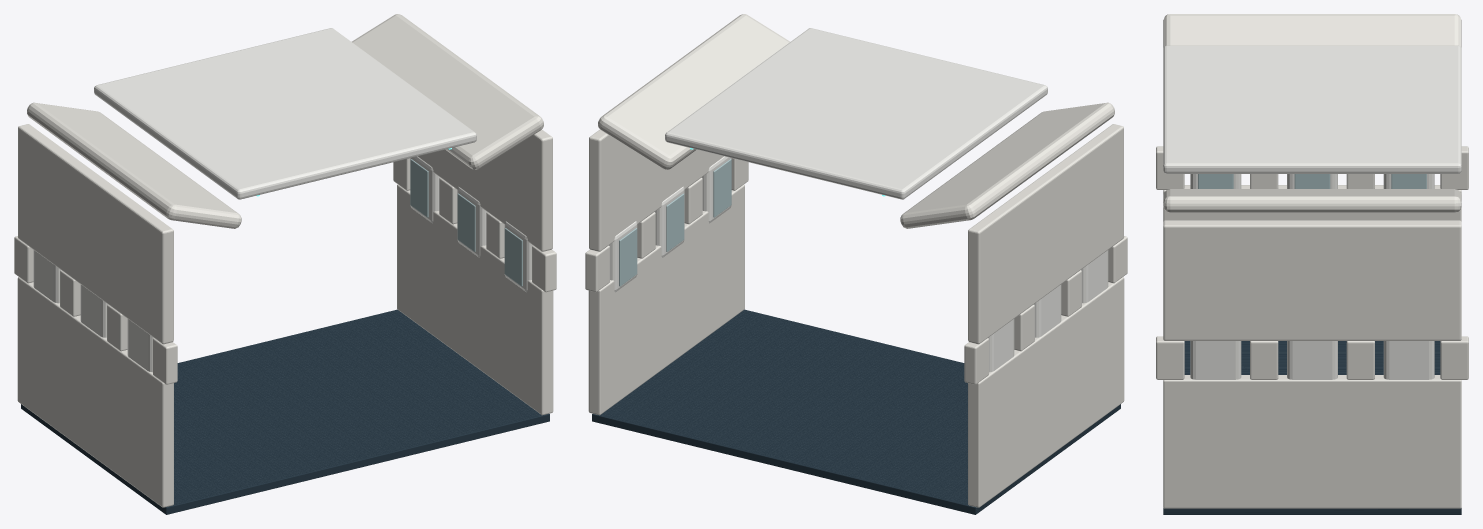
Rendered from aircraft-cabin-section.glb.
The picture shows the model from 3 angles, left to right: view 1: azimuth 30°, elevation 25°; view 2: azimuth 150°, elevation 25°; view 3: azimuth 270°, elevation 25°; orthographic projection. The views are drawn at different scales.
Visible parts, largest first — view 1: CabinFloor, Ceiling, SidewallLower-1, SidewallUpper-1, SidewallLower1, CeilingShoulder1, CeilingShoulder-1, SidewallUpper1, WindowFrame-1-0.68, WindowFrame-10, WindowPier11.0, WindowPier-11.0 (+12 smaller); view 2: CabinFloor, Ceiling, SidewallLower-1, SidewallUpper-1, SidewallLower1, CeilingShoulder1, CeilingShoulder-1, SidewallUpper1, WindowFrame-10, WindowFrame-10.68, WindowPier1-1.0, WindowPier-1-1.0 (+12 smaller); view 3: SidewallLower1, Ceiling, SidewallUpper1, CeilingShoulder-1, CeilingShoulder1, CabinFloor, SidewallLower-1, WindowFrame1-0.68, WindowFrame10.68, WindowFrame10, WindowPier1-1.0, WindowPier11.0 (+9 smaller).
Boxes of the visible parts, <box> form: CabinFloor: <box>21,309,549,514</box>; Ceiling: <box>94,28,476,199</box>; SidewallLower-1: <box>17,277,173,507</box>; SidewallUpper-1: <box>18,124,173,344</box>; SidewallLower1: <box>397,184,553,415</box>; CeilingShoulder1: <box>351,14,543,169</box>; CeilingShoulder-1: <box>27,102,241,228</box>; SidewallUpper1: <box>418,129,552,251</box>; WindowFrame-1-0.68: <box>33,250,60,303</box>; WindowFrame-10: <box>80,284,107,337</box>; WindowPier11.0: <box>532,245,556,292</box>; WindowPier-11.0: <box>153,338,177,384</box>; CabinFloor: <box>592,309,1120,514</box>; Ceiling: <box>665,28,1047,199</box>; SidewallLower-1: <box>968,277,1124,507</box>; SidewallUpper-1: <box>968,124,1123,344</box>; SidewallLower1: <box>588,184,744,415</box>; CeilingShoulder1: <box>598,14,790,169</box>; CeilingShoulder-1: <box>900,102,1114,228</box>; SidewallUpper1: <box>589,129,723,251</box>; WindowFrame-10: <box>1034,284,1061,337</box>; WindowFrame-10.68: <box>1081,250,1108,303</box>; WindowPier1-1.0: <box>585,245,609,292</box>; WindowPier-1-1.0: <box>964,338,988,384</box>; SidewallLower1: <box>1163,375,1461,508</box>; Ceiling: <box>1163,45,1461,173</box>; SidewallUpper1: <box>1163,220,1461,340</box>; CeilingShoulder-1: <box>1163,14,1461,47</box>; CeilingShoulder1: <box>1163,189,1461,212</box>; CabinFloor: <box>1163,341,1461,514</box>; SidewallLower-1: <box>1163,185,1461,221</box>; WindowFrame1-0.68: <box>1383,341,1434,379</box>; WindowFrame10.68: <box>1190,341,1241,379</box>; WindowFrame10: <box>1287,341,1337,379</box>; WindowPier1-1.0: <box>1440,336,1468,379</box>; WindowPier11.0: <box>1156,336,1184,379</box>.
Bounding box in the file's own units: 3.26 × 2.44 × 2.2.
Materials: 5 (1 with a texture image).
